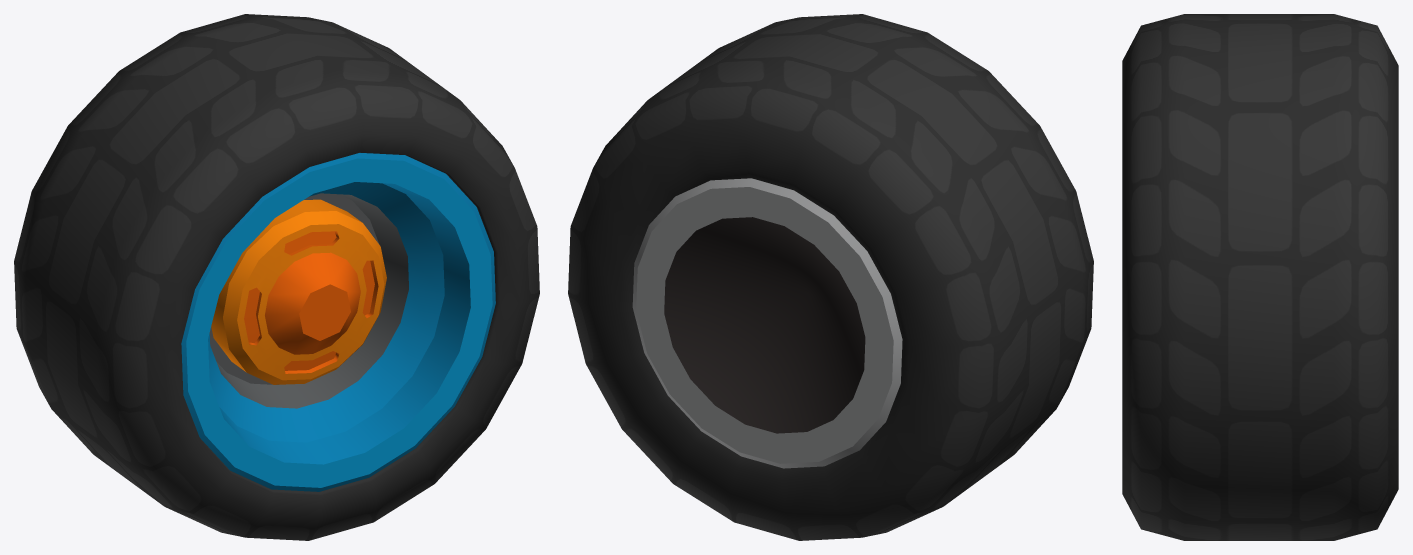
The model's file is Wheel_08.fbx.
3 renders of one model, left to right at view 1: azimuth 30°, elevation 25°; view 2: azimuth 150°, elevation 25°; view 3: azimuth 270°, elevation 25°, orthographic. The views are drawn at different scales.
Visible parts, largest first — view 1: Wheel_08; view 2: Wheel_08; view 3: Wheel_08.
Boxes of the visible parts, x1=… form: Wheel_08: x1=14, y1=14, x2=539, y2=540; Wheel_08: x1=568, y1=14, x2=1093, y2=540; Wheel_08: x1=1122, y1=14, x2=1398, y2=540.
Size of the model in its own units: 95 by 50 by 95.
